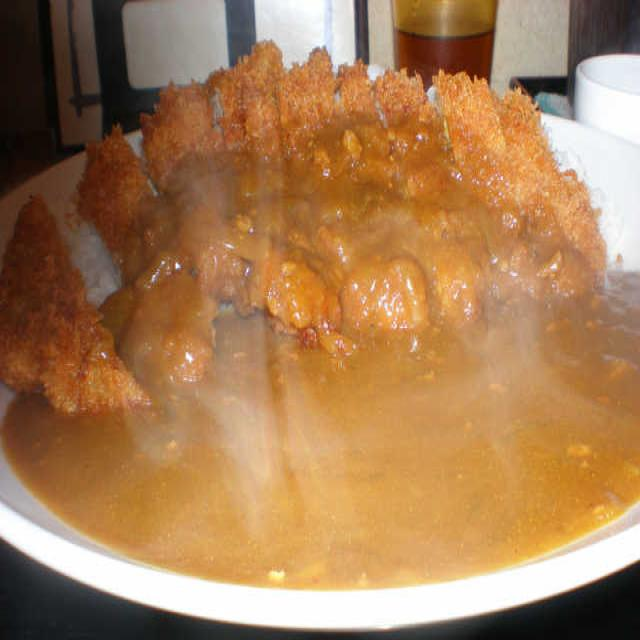猪肉菜式: (0, 26, 640, 640)
